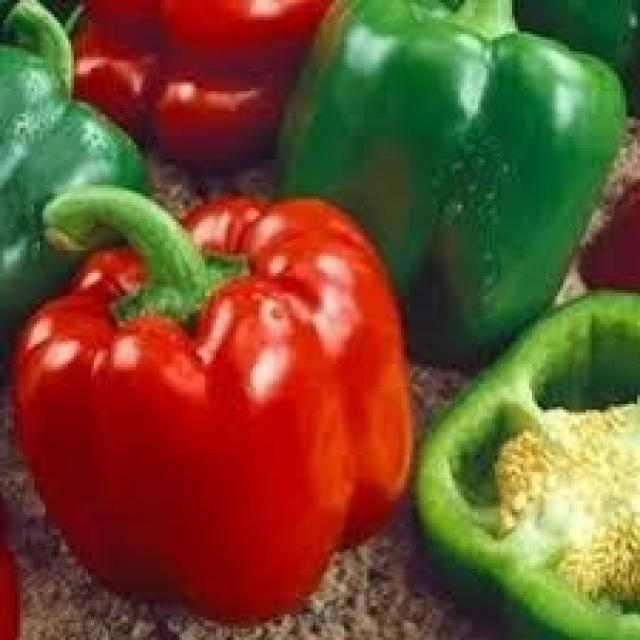bell_pepper: (25, 190, 419, 623), (295, 4, 627, 377)
